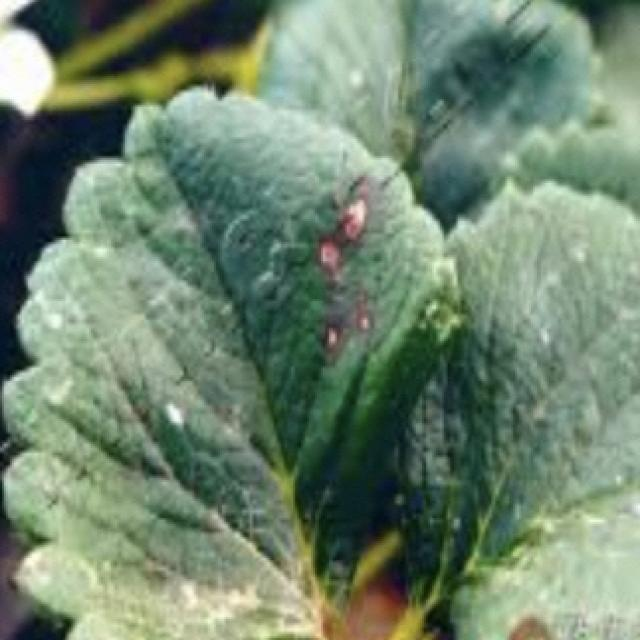Leaf Spot: (0, 84, 463, 640)
